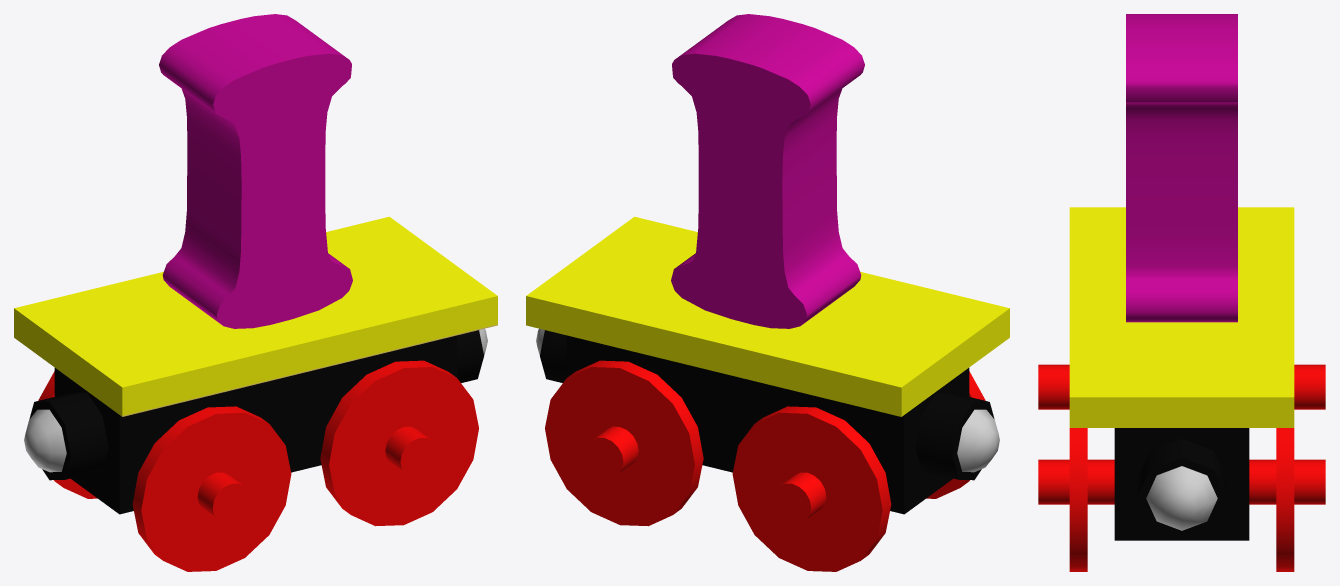
3 views of the same model, side by side, from view 1: azimuth 30°, elevation 25°; view 2: azimuth 150°, elevation 25°; view 3: azimuth 270°, elevation 25° (orthographic). The views are drawn at different scales.
Visible parts, largest first — view 1: WagonWithLetterILowPoly; view 2: WagonWithLetterILowPoly; view 3: WagonWithLetterILowPoly.
Boxes of the visible parts, bbox=[...] form: WagonWithLetterILowPoly: bbox=[14, 14, 497, 571]; WagonWithLetterILowPoly: bbox=[526, 14, 1009, 571]; WagonWithLetterILowPoly: bbox=[1038, 14, 1325, 571].
Size of the model in its own units: 6.06 by 5.94 by 3.2.
1 material, 1 textured.
